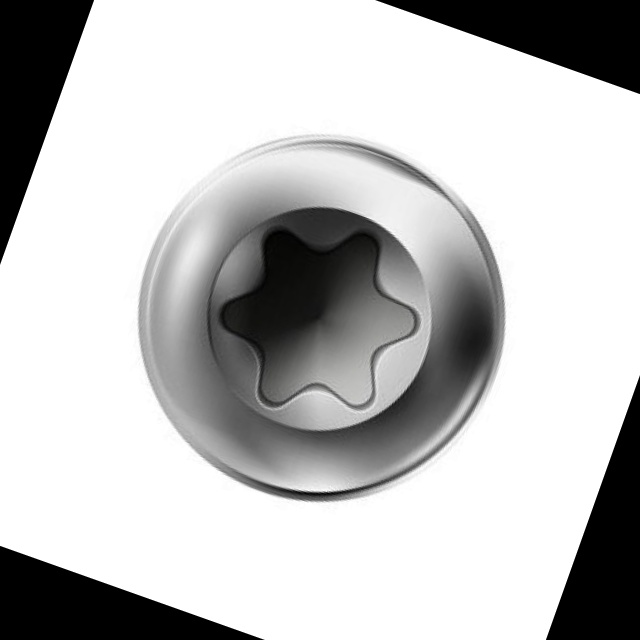torx: (87, 84, 558, 553)
